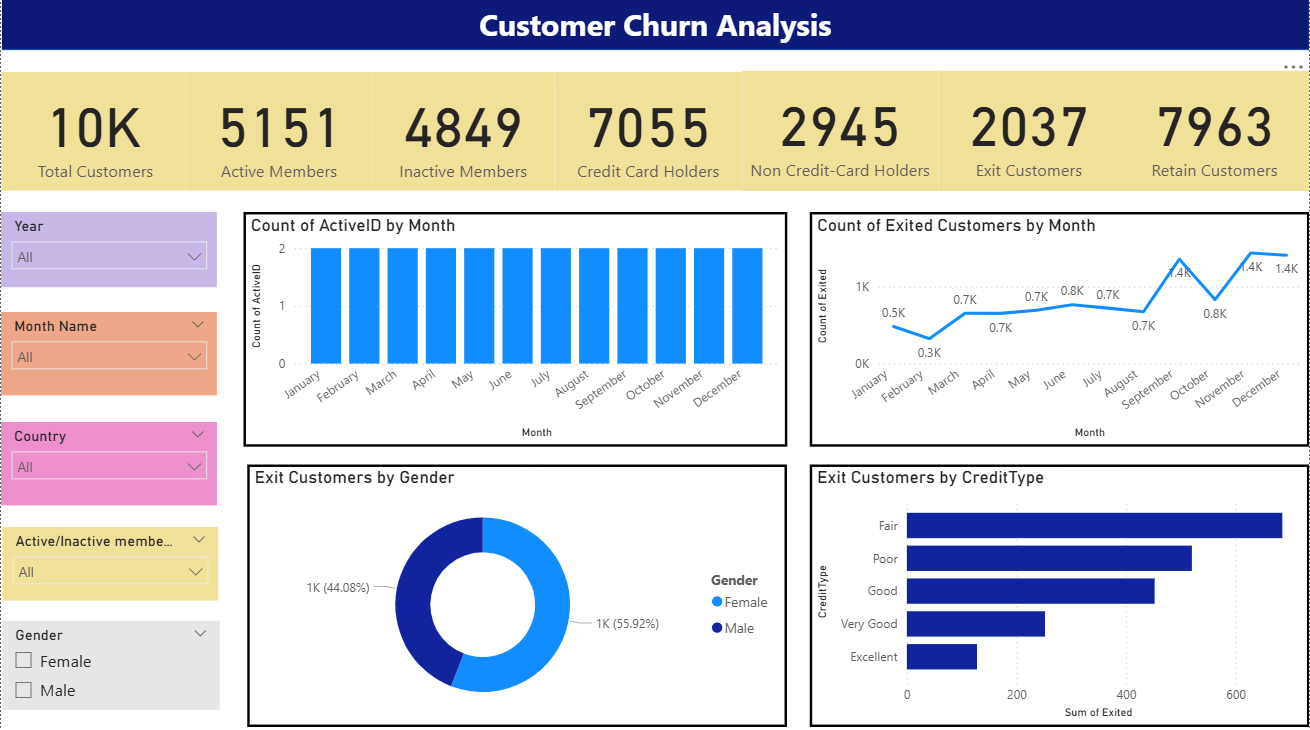

Layout of this report page (visuals, bound fields, positions):
{"tool":"powerbi","page":{"name":"Page 1","canvas":[1280,720],"ordinal":0},"visuals":[{"type":"shape","box":[0,0,1280.3,52.1],"z":0},{"type":"card","title":"TOTAL CUSTOMER","fields":{"Values":["CountNonNull(Bank_Churn.TOTAL CUSTOMER)"]},"box":[0,73.4,181,116.2],"z":1000},{"type":"card","fields":{"Values":["Sum(Bank_Churn.IsActiveMember)"]},"box":[181,73.4,182.2,116.2],"z":2000},{"type":"card","fields":{"Values":["Sum(Bank_Churn.HasCrCard)"]},"box":[541.7,73.4,183.4,116.2],"z":3000},{"type":"card","fields":{"Values":["Sum(Bank_Churn.Exited)"]},"box":[917.1,72.1,177.3,117.4],"z":4000},{"type":"slicer","fields":{"Values":["Bank_Churn.Bank DOJ.Variation.Date Hierarchy.Year"]},"box":[0,210.3,211.6,73.4],"z":5000},{"type":"slicer","fields":{"Values":["Bank_Churn.Bank DOJ.Variation.Date Hierarchy.Month"]},"box":[0,308.2,211.6,81.9],"z":6000},{"type":"slicer","fields":{"Values":["Geography.GeographyLocation"]},"box":[0,415.8,211.6,81.9],"z":7000},{"type":"slicer","fields":{"Values":["Active customers.ActiveCategory"]},"box":[1.2,518.5,211.6,72.1],"z":8000},{"type":"slicer","fields":{"Values":["Gender.GenderCategory"]},"box":[1.2,610.2,212.8,86.8],"z":9000},{"type":"clusteredColumnChart","fields":{"Y":["CountNonNull(Active customers.ActiveID)"],"Category":["Bank_Churn.Bank DOJ.Variation.Date Hierarchy.Month"]},"box":[237.2,210.3,531.9,229.9],"z":10000},{"type":"donutChart","title":"Exit Customers by Gender","fields":{"Y":["Sum(Bank_Churn.Exited)"],"Category":["Gender.GenderCategory"]},"box":[240.9,457.3,528.3,256.8],"z":11000},{"type":"clusteredBarChart","title":"Exit Customers by CreditType","fields":{"Y":["Sum(Bank_Churn.Exited)"],"Category":["Bank_Churn.CreditType"]},"box":[791.2,457.3,489.1,256.8],"z":12000},{"type":"lineChart","title":"Count of Exited Customers by Month","fields":{"Y":["CountNonNull(Bank_Churn.Exited)"],"Category":["Bank_Churn.Bank DOJ.Variation.Date Hierarchy.Month"]},"box":[791.2,210.3,489.1,229.9],"z":13000},{"type":"card","fields":{"Values":["Active customers.NON CREDIT-CARD HOLDERS"]},"box":[725.1,72.1,192,117.4],"z":14000},{"type":"card","fields":{"Values":["Active customers.Inactive Members"]},"box":[363.2,73.4,178.5,116.2],"z":15000},{"type":"card","fields":{"Values":["Active customers.Retain Customers"]},"box":[1094.4,72.1,185.9,117.4],"z":16000}]}

Visuals, with their boxes in screenshot pixels (x1, y1, x2, y2), scaled from the page's 1280x720 canvas onto the 1310x730 screenshot:
shape: [left=0, top=0, right=1309, bottom=53]
"TOTAL CUSTOMER" card: [left=0, top=74, right=185, bottom=192]
card - Sum(Bank_Churn.IsActiveMember): [left=185, top=74, right=372, bottom=192]
card - Sum(Bank_Churn.HasCrCard): [left=554, top=74, right=742, bottom=192]
card - Sum(Bank_Churn.Exited): [left=939, top=73, right=1120, bottom=192]
slicer - Bank_Churn.Bank DOJ.Variation.Date Hierarchy.Year: [left=0, top=213, right=217, bottom=288]
slicer - Bank_Churn.Bank DOJ.Variation.Date Hierarchy.Month: [left=0, top=312, right=217, bottom=396]
slicer - Geography.GeographyLocation: [left=0, top=422, right=217, bottom=505]
slicer - Active customers.ActiveCategory: [left=1, top=526, right=218, bottom=599]
slicer - Gender.GenderCategory: [left=1, top=619, right=219, bottom=707]
clusteredColumnChart - CountNonNull(Active customers.ActiveID) x Bank_Churn.Bank DOJ.Variation.Date Hierarchy.Month: [left=243, top=213, right=787, bottom=446]
"Exit Customers by Gender" donutChart: [left=247, top=464, right=787, bottom=724]
"Exit Customers by CreditType" clusteredBarChart: [left=810, top=464, right=1309, bottom=724]
"Count of Exited Customers by Month" lineChart: [left=810, top=213, right=1309, bottom=446]
card - Active customers.NON CREDIT-CARD HOLDERS: [left=742, top=73, right=939, bottom=192]
card - Active customers.Inactive Members: [left=372, top=74, right=554, bottom=192]
card - Active customers.Retain Customers: [left=1120, top=73, right=1309, bottom=192]
